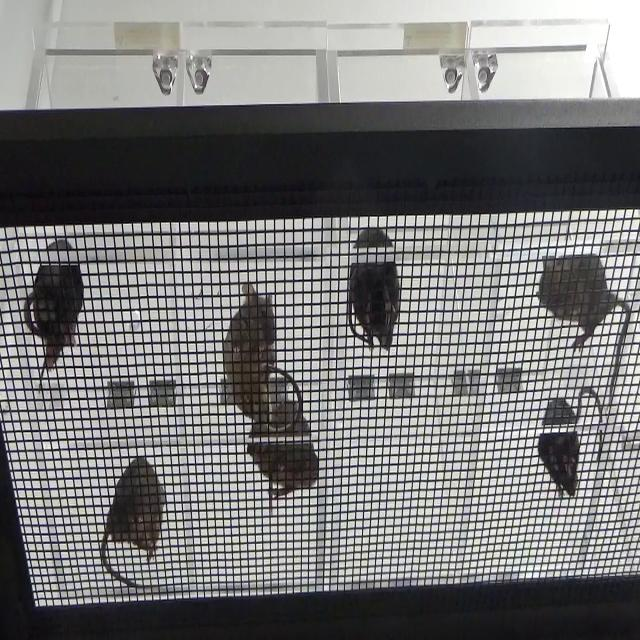lick tail: (14, 224, 95, 401)
